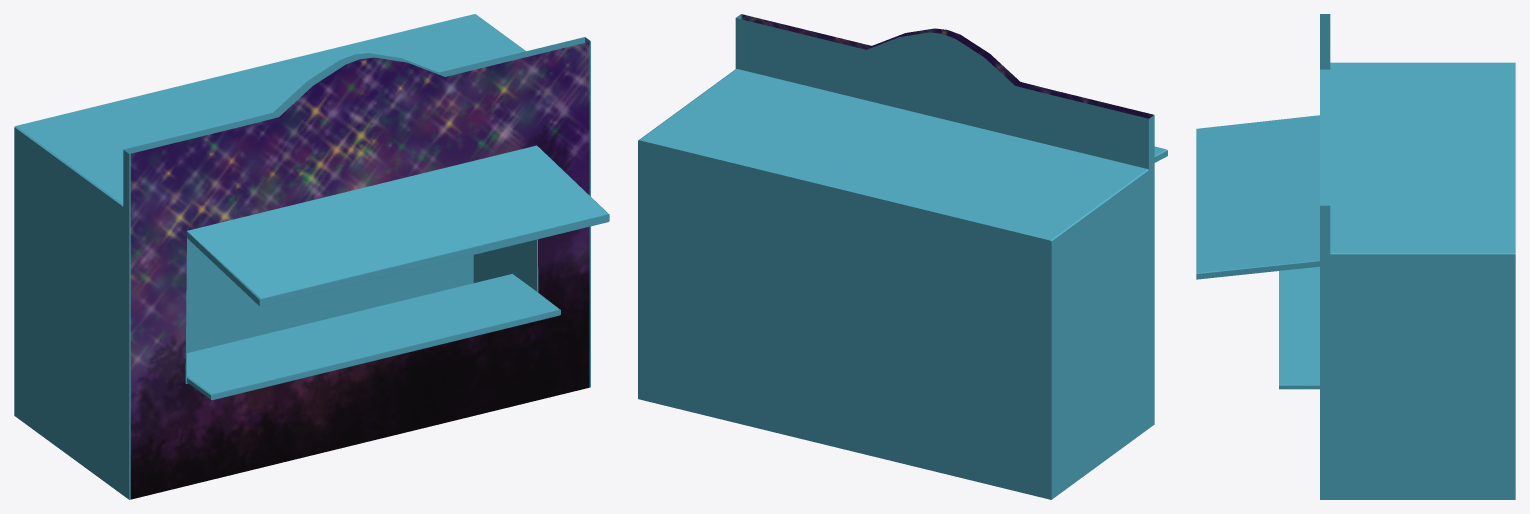
The model's file is kiosk A.fbx.
3 renders of one model, left to right at view 1: azimuth 30°, elevation 25°; view 2: azimuth 150°, elevation 25°; view 3: azimuth 270°, elevation 25°, orthographic. The views are drawn at different scales.
Visible parts, largest first — view 1: Plane; view 2: Plane; view 3: Plane.
Boxes of the visible parts, x1,y1,x2,y2 form: Plane: [14, 14, 609, 499]; Plane: [638, 14, 1167, 499]; Plane: [1196, 14, 1515, 499].
Bounding box in the file's own units: 528 × 420 × 372.
